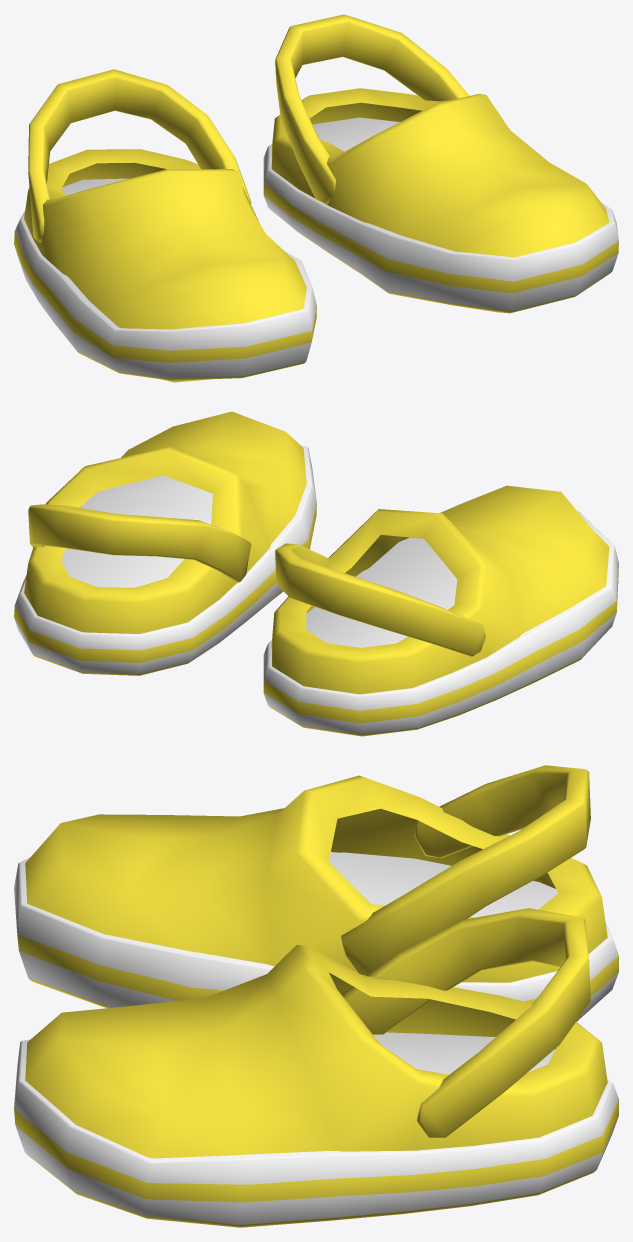
File: Shoe_Sneaker_011.glb
3 renders of one model, top to bottom at view 1: azimuth 30°, elevation 25°; view 2: azimuth 150°, elevation 25°; view 3: azimuth 270°, elevation 25°, orthographic. The views are drawn at different scales.
Parts seen in each view (by area): view 1: Shoe_Sneaker_011; view 2: Shoe_Sneaker_011; view 3: Shoe_Sneaker_011.
Boxes of the visible parts, bbox=[...] form: Shoe_Sneaker_011: bbox=[14, 14, 618, 382]; Shoe_Sneaker_011: bbox=[14, 411, 618, 736]; Shoe_Sneaker_011: bbox=[14, 765, 618, 1227].
Size of the model in its own units: 0.4416 by 0.1342 by 0.3381.
1 material, 1 textured.
